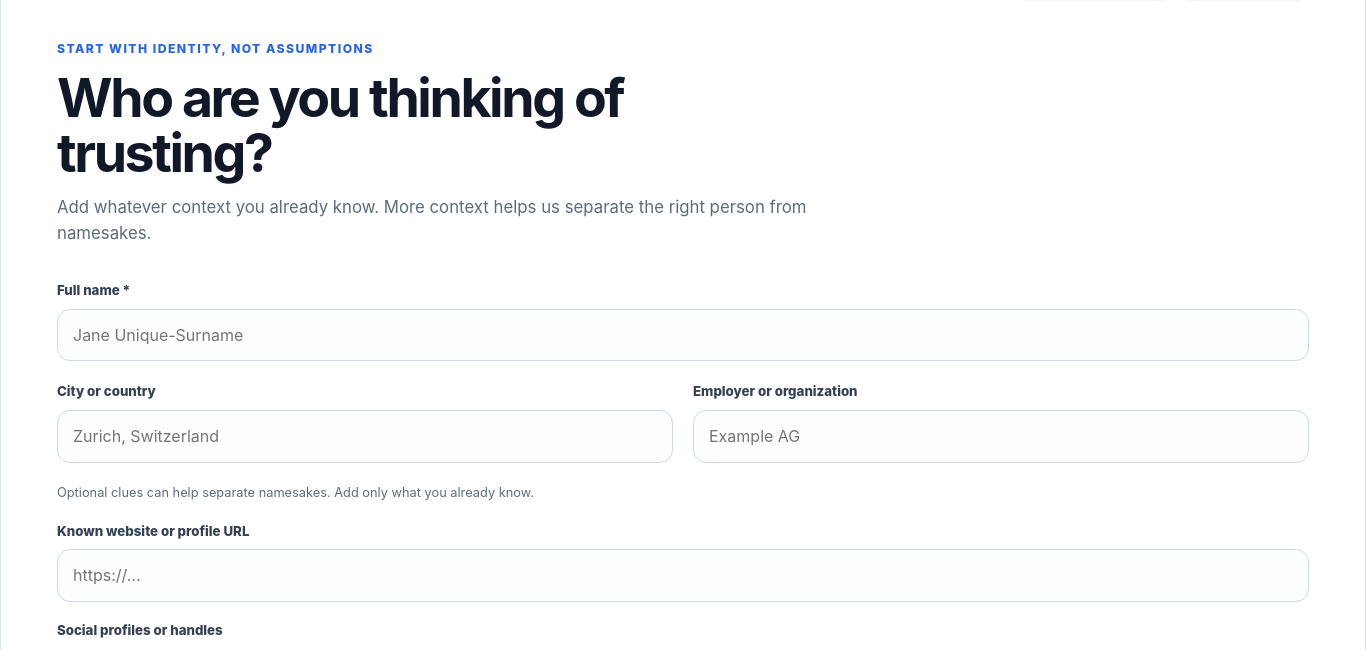
it: SearchExperience › warns when broad SearXNG discovery did not contribute
In the field labelled "Full name *": (683, 335) [57,309,1309,361], type "Sasza Swiatek"
(page scrolled)
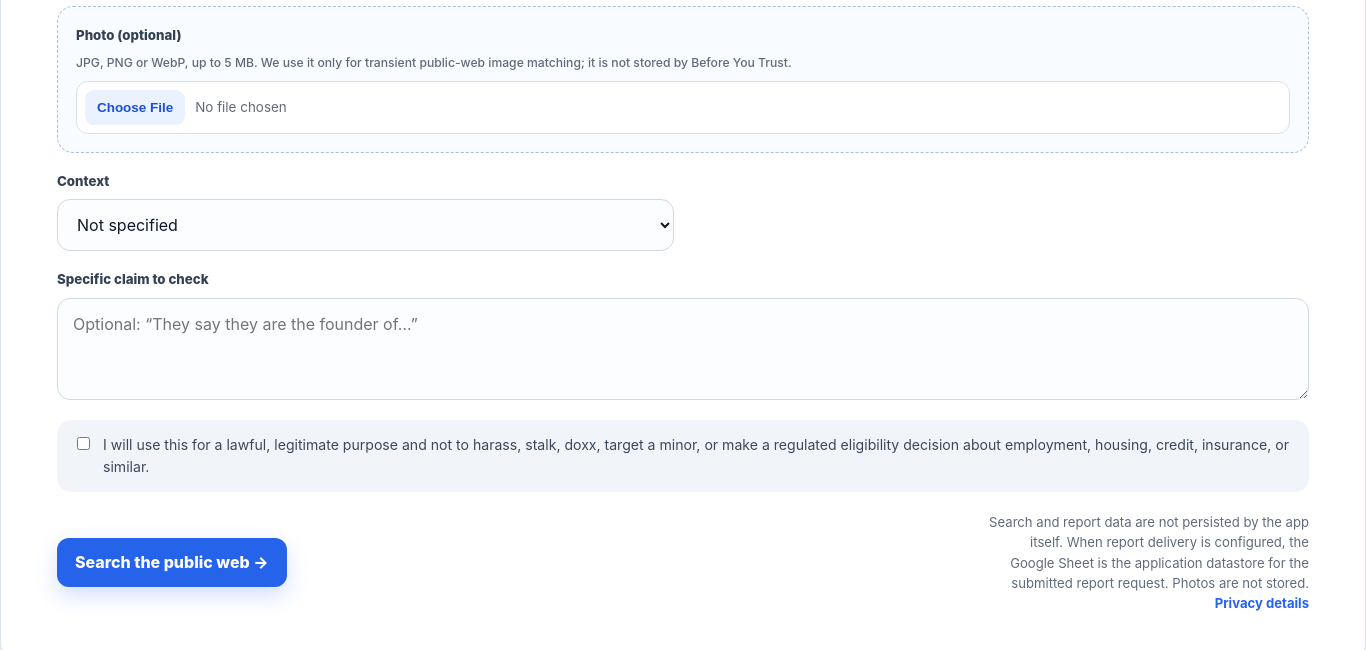
Click the checkbox: (84, 444) [77,437,90,450]
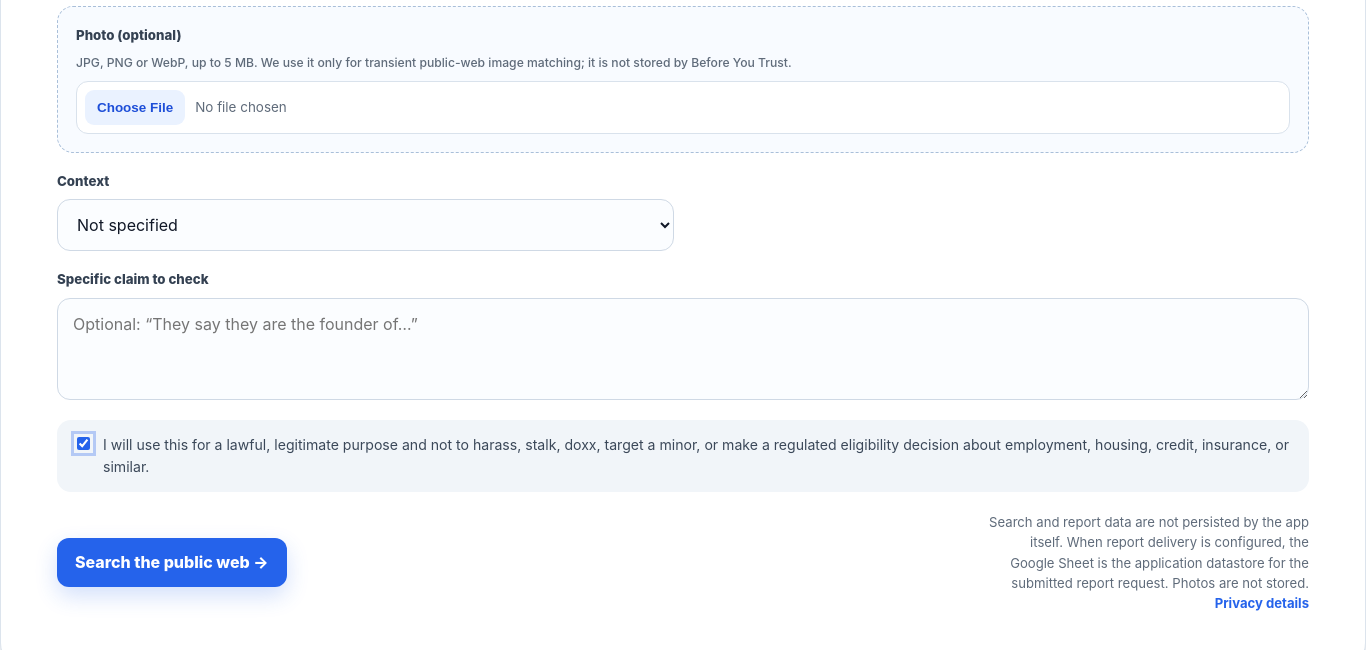
Click the button "Search the public web →": (172, 563) [57,538,286,587]
(page scrolled)
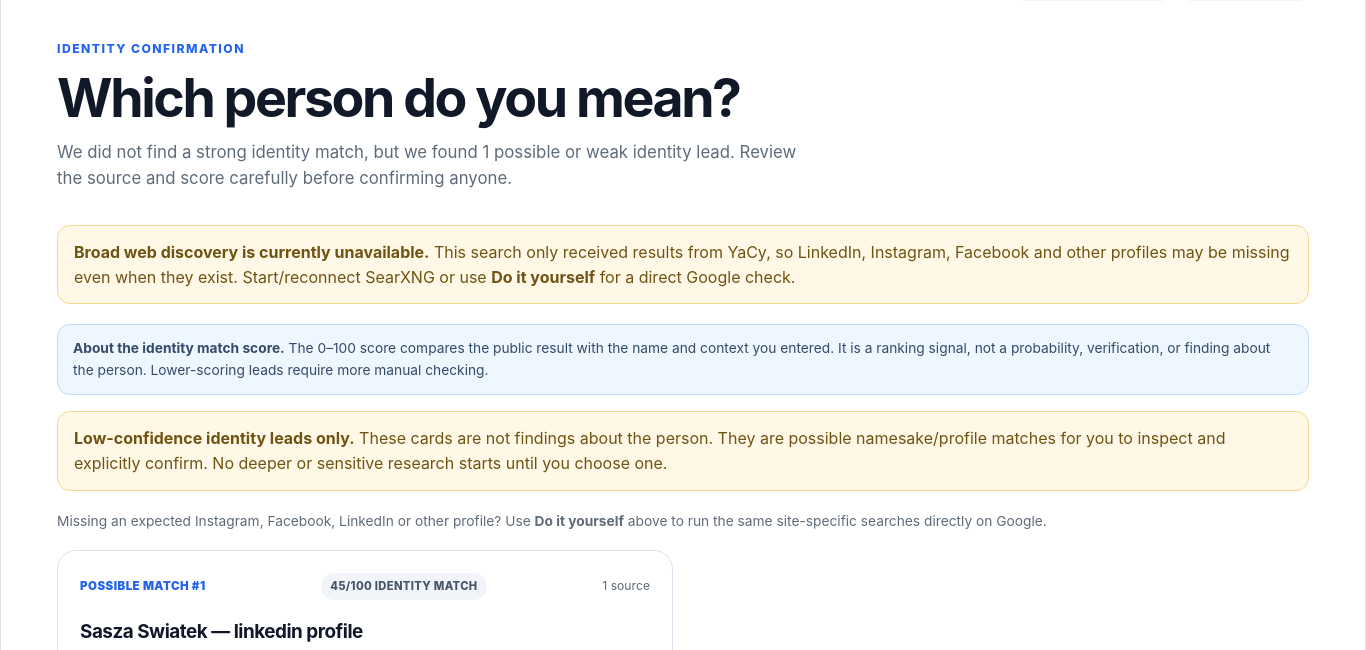
Expected: the text "Broad web discovery is currently unavailable." is shown, [74,242,429,262]
